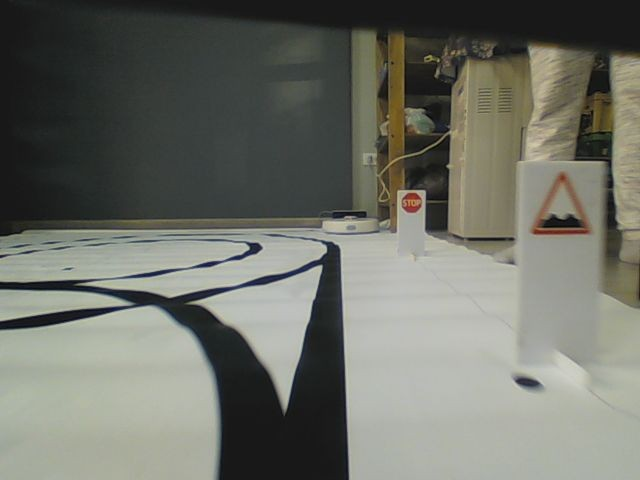Nerov: (531, 169, 593, 238)
Stop: (401, 191, 423, 213)
